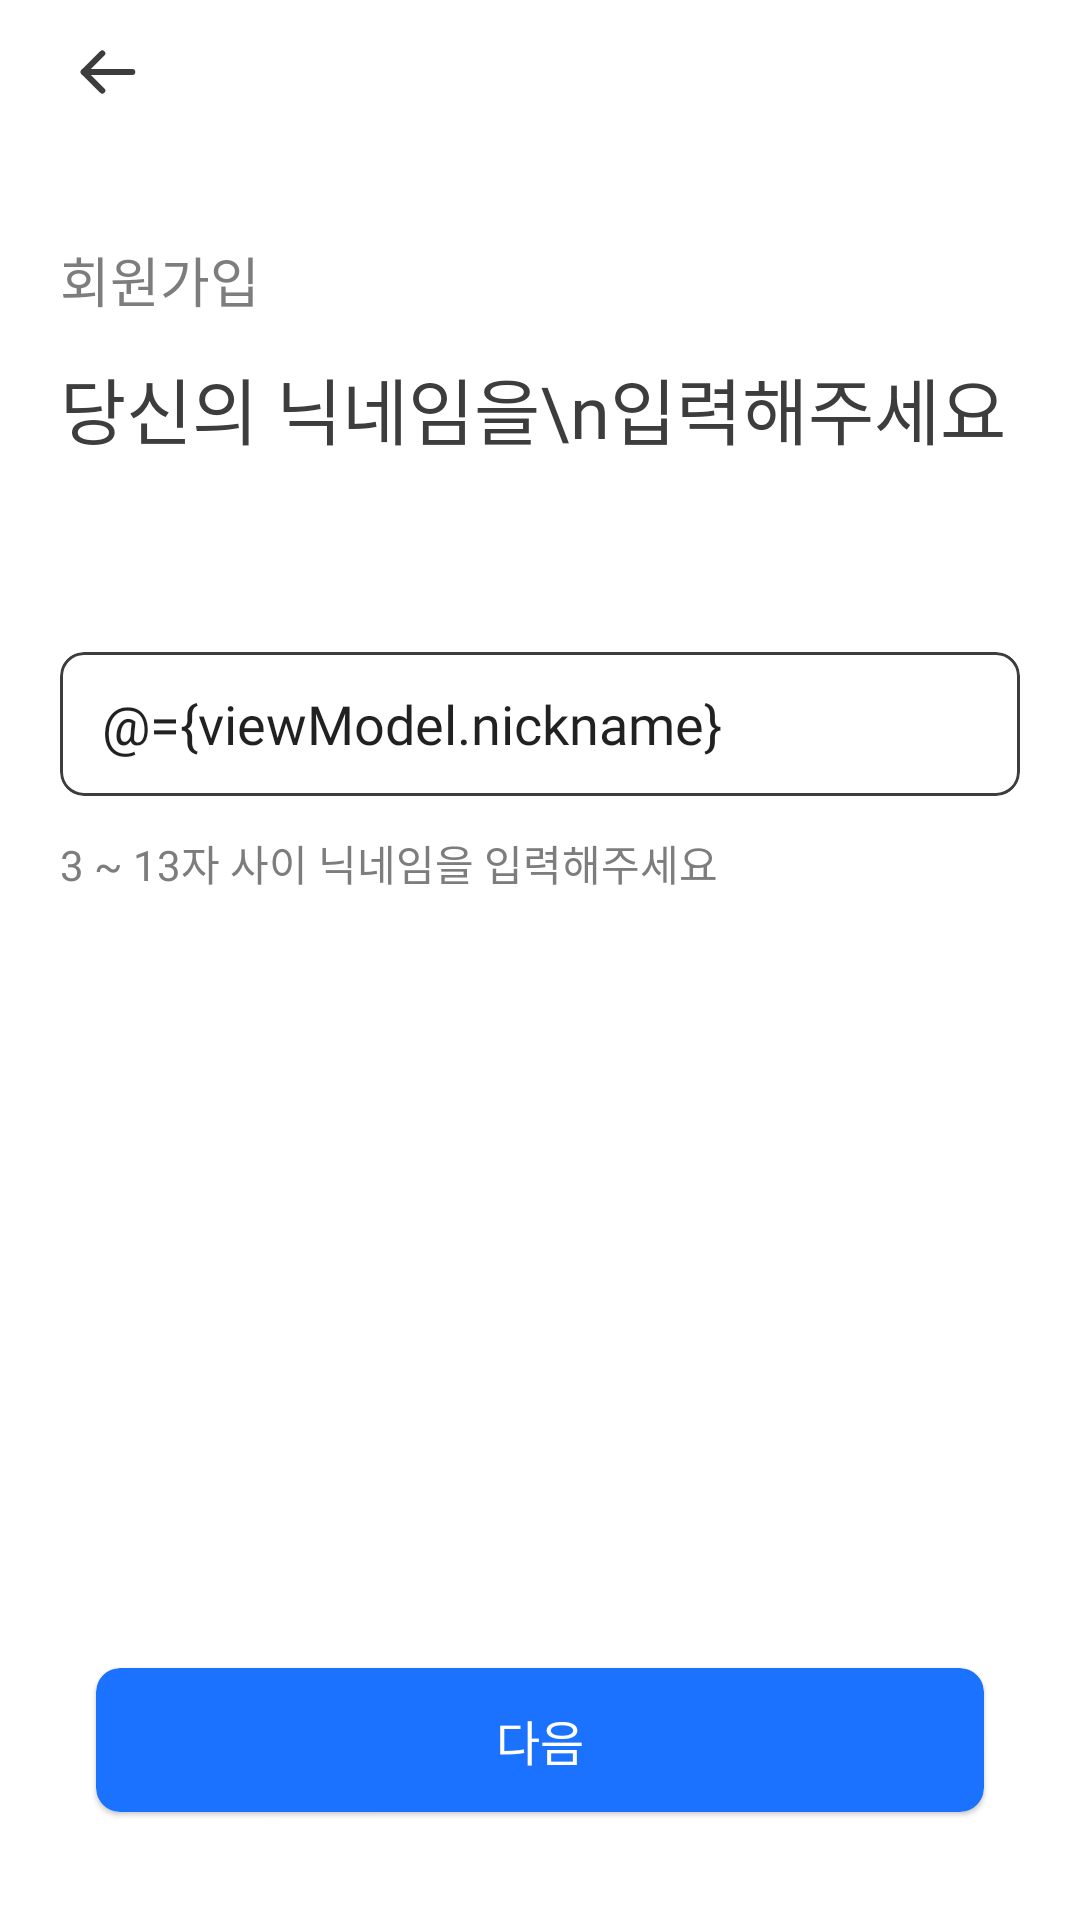

Named icons in this screenshot (1080 × 1920) and their bounding boxes, (x1, y1, x2, y2):
back: (80, 50, 136, 94)
